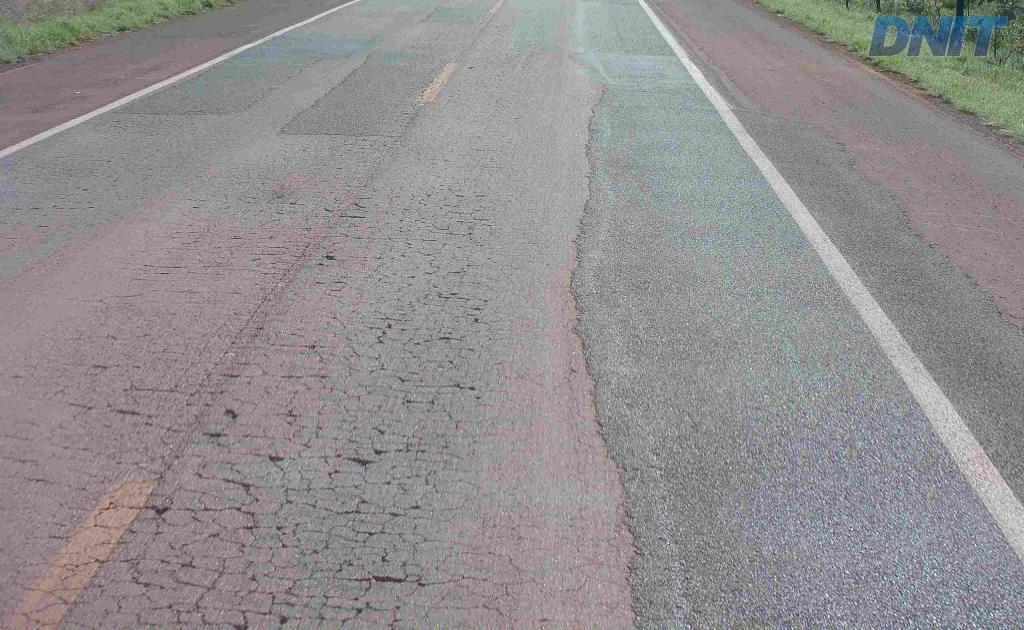crack: (326, 559, 458, 597), (348, 500, 421, 547), (147, 592, 221, 629), (227, 591, 295, 629), (119, 549, 165, 592)
